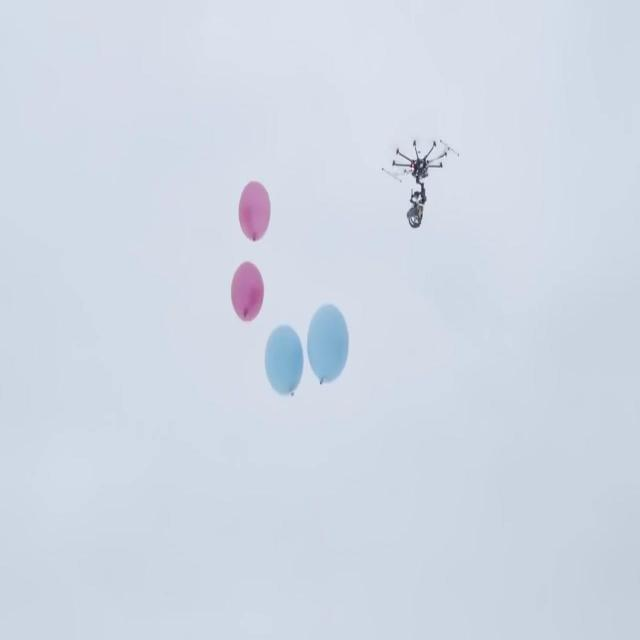UAV: (381, 140, 459, 228)
